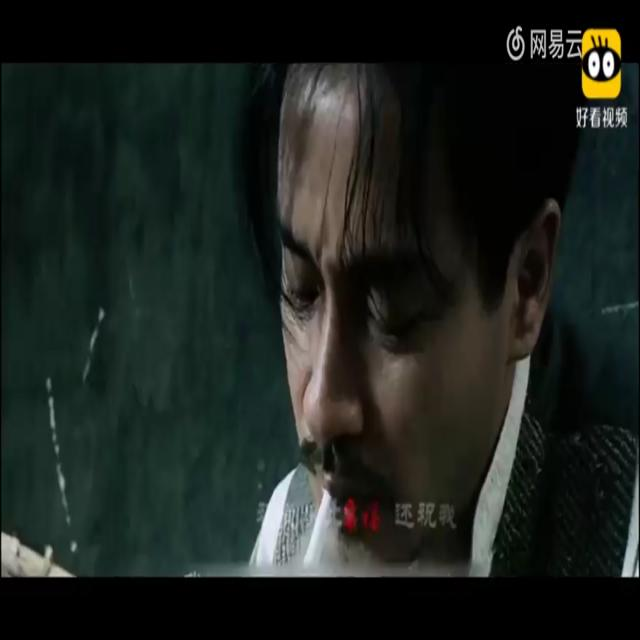cigarette: (298, 485, 336, 574)
